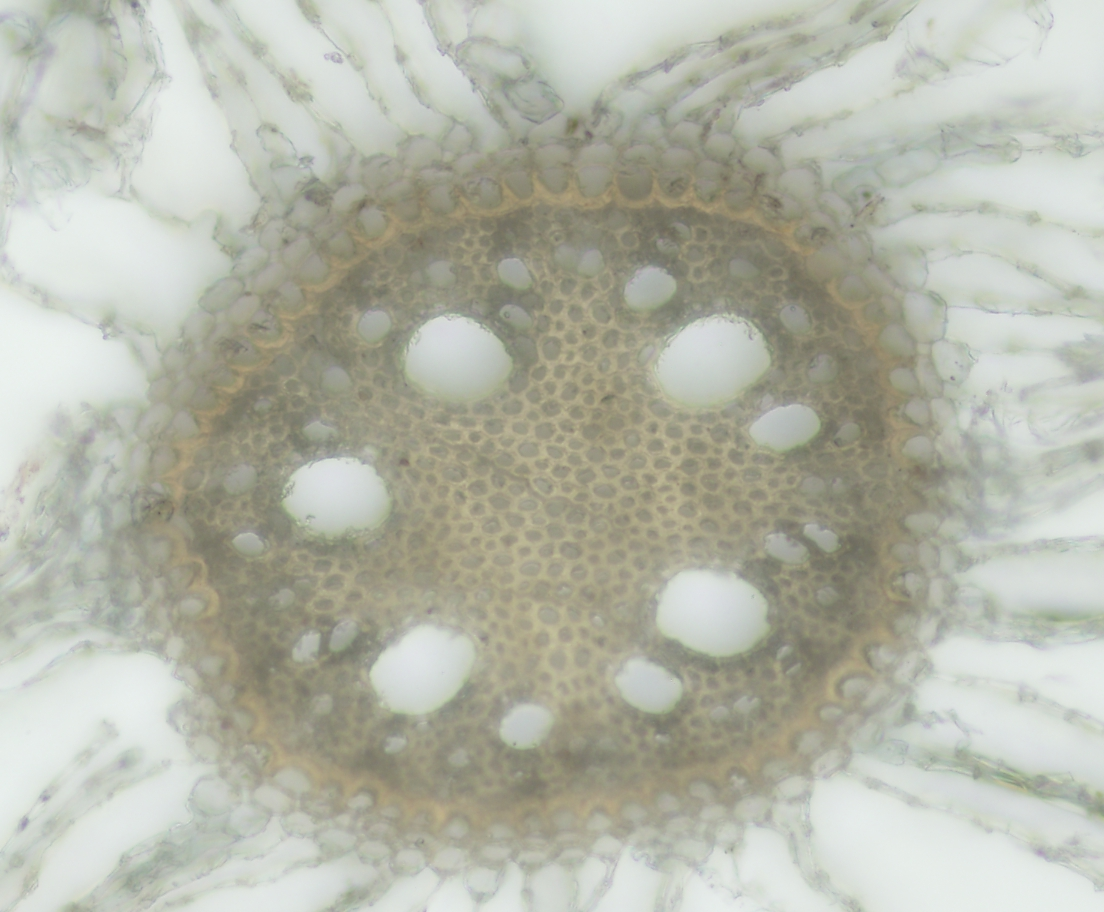lm: (649, 312, 820, 452), (370, 622, 554, 750), (614, 567, 771, 714), (402, 314, 515, 406), (280, 455, 392, 543)
